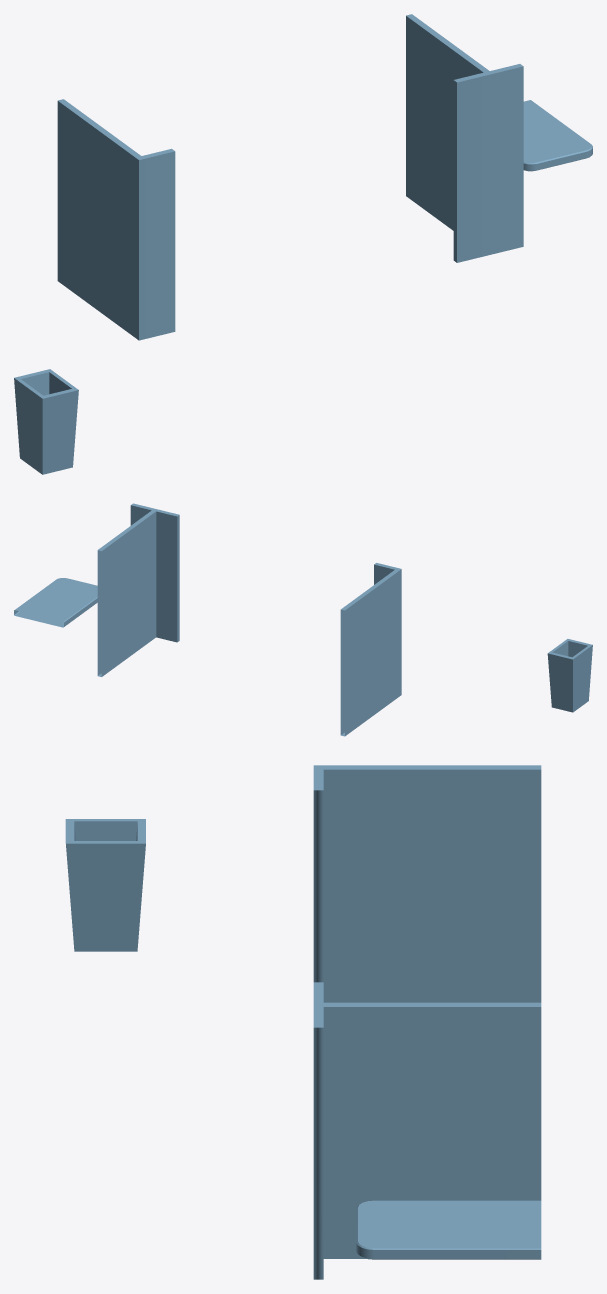
Rendered from GJ_Tables&Trash.fbx.
3 views of the same model, one above another, from view 1: azimuth 30°, elevation 25°; view 2: azimuth 150°, elevation 25°; view 3: azimuth 270°, elevation 25° (orthographic). The views are drawn at different scales.
Parts seen in each view (by area): view 1: Stall_Wall, Stall_Corner, Trash_Bin, Tables; view 2: Stall_Wall, Stall_Corner, Trash_Bin, Tables; view 3: Stall_Corner, Stall_Wall, Tables, Trash_Bin.
Part boxes in pixels (box(x1,y1,x2,y2)): Stall_Wall: box(406, 14, 523, 262); Stall_Corner: box(57, 99, 175, 340); Trash_Bin: box(14, 369, 78, 474); Tables: box(523, 100, 592, 171); Stall_Wall: box(97, 503, 179, 676); Stall_Corner: box(340, 563, 401, 736); Trash_Bin: box(547, 639, 592, 712); Tables: box(14, 578, 97, 627); Stall_Corner: box(313, 765, 541, 1002); Stall_Wall: box(313, 982, 541, 1279); Tables: box(356, 1200, 541, 1259); Trash_Bin: box(65, 819, 145, 951).
Bounding box in the file's own units: 21.45 × 6.45 × 9.59.
